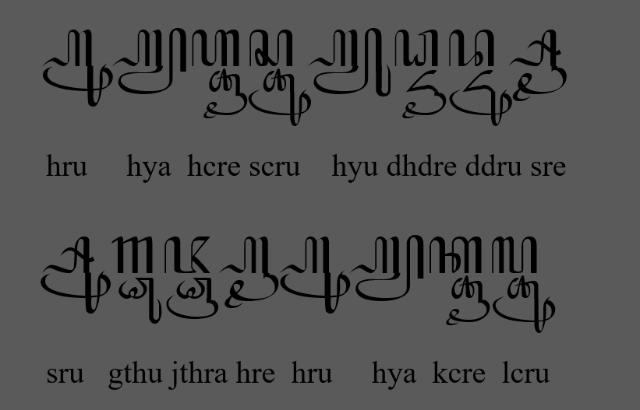_cre: (202, 68, 248, 120), (446, 276, 490, 328)
_cru: (248, 68, 312, 126), (492, 276, 556, 334)
_dre: (401, 70, 447, 119)
_dru: (450, 70, 512, 128)
_hre: (218, 236, 280, 310)
_hru: (279, 237, 351, 316), (42, 29, 112, 107)
_hy: (348, 235, 424, 304), (112, 27, 188, 94)
_hyu: (308, 27, 392, 96)
_sre: (508, 29, 566, 102)
_sru: (40, 237, 111, 316)
_thr: (167, 276, 219, 320)
_thu: (118, 277, 162, 325)
d: (448, 29, 496, 68)
dh: (394, 29, 440, 68)
g: (110, 236, 154, 276)
h: (191, 29, 241, 68)
j: (162, 236, 210, 276)
k: (429, 236, 483, 274)
l: (490, 236, 538, 276)
s: (248, 29, 294, 68)
